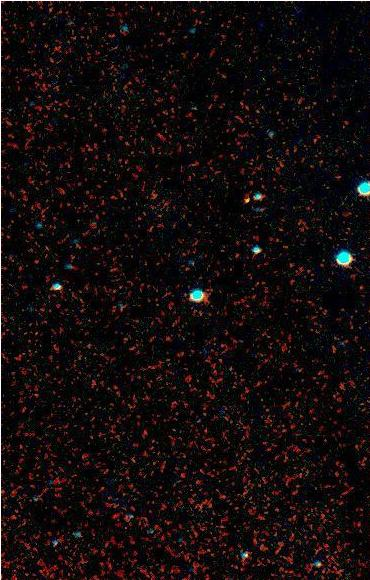star: (232, 176, 262, 206)
